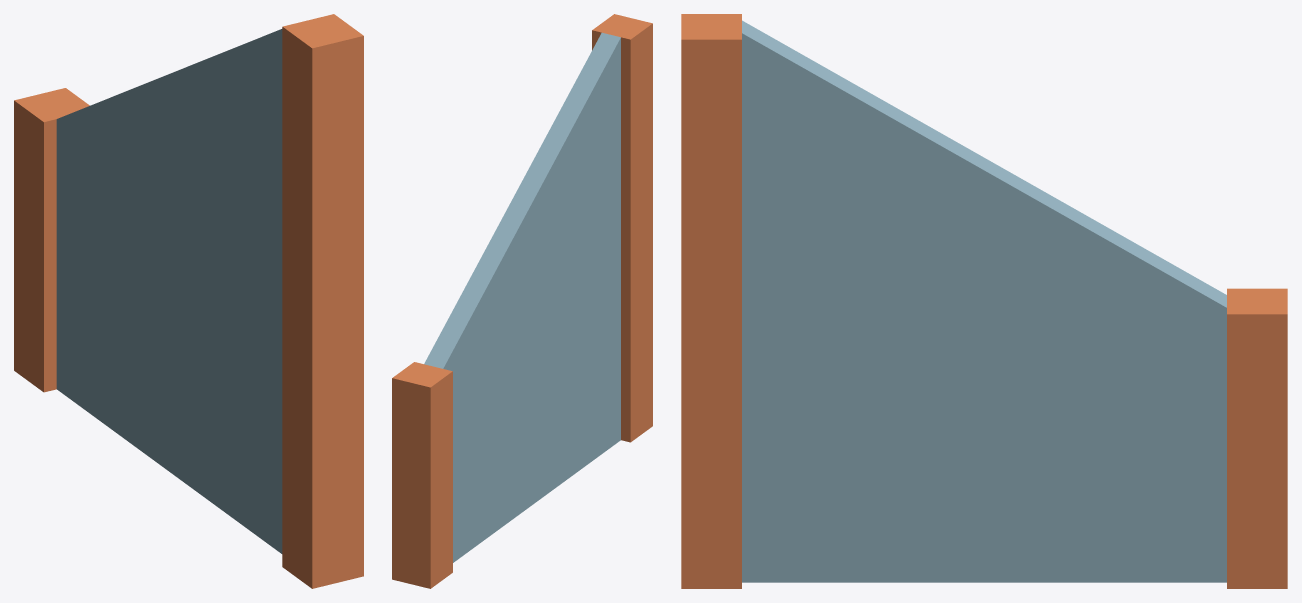
File: wallSlope.obj
3 views of the same model, side by side, from view 1: azimuth 30°, elevation 25°; view 2: azimuth 150°, elevation 25°; view 3: azimuth 270°, elevation 25° (orthographic). The views are drawn at different scales.
Parts seen in each view (by area): view 1: wallSlope; view 2: wallSlope; view 3: wallSlope.
Boxes of the visible parts, bbox=[...] form: wallSlope: bbox=[14, 14, 363, 588]; wallSlope: bbox=[392, 14, 652, 588]; wallSlope: bbox=[681, 14, 1287, 588].
Size of the model in its own units: 0.1 by 1 by 1.
